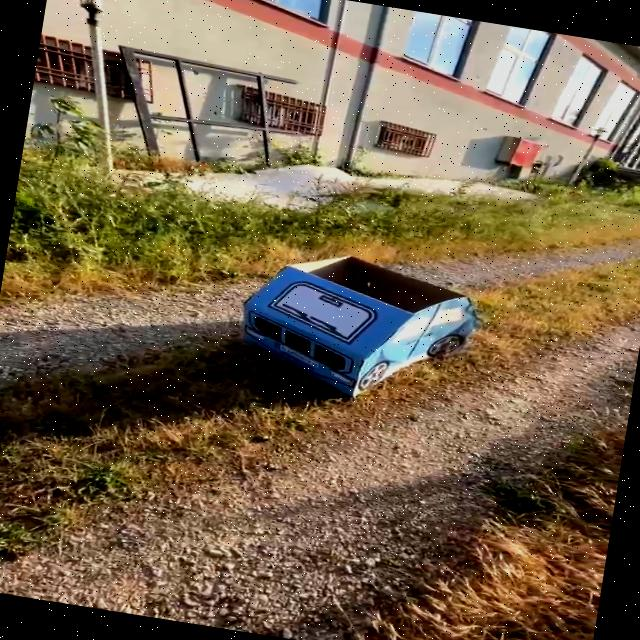blue_car: (158, 198, 547, 432)
